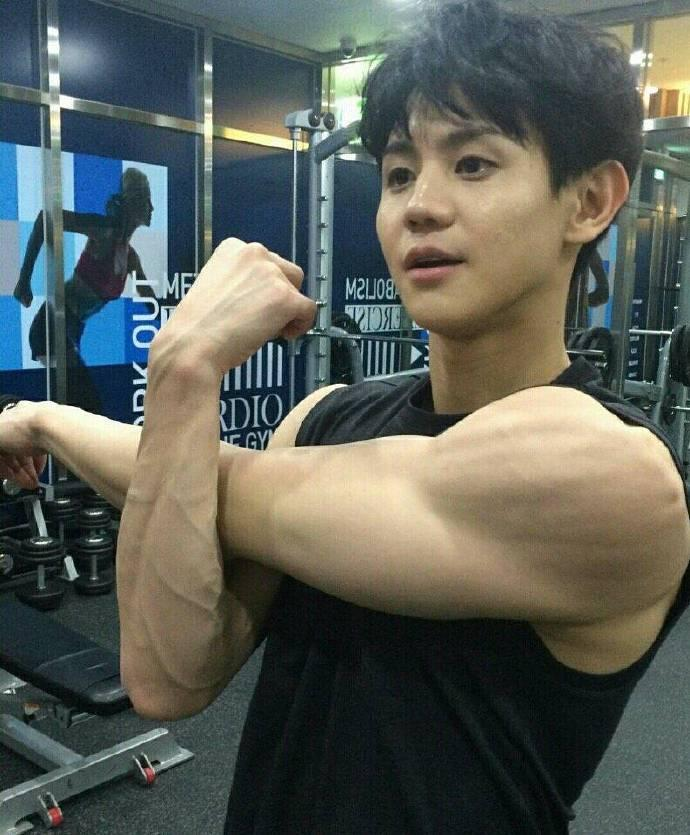people: (197, 11, 690, 835)
